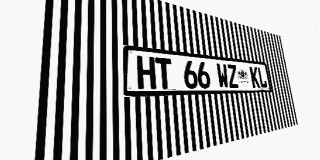6: (182, 60, 198, 89), (196, 61, 211, 88)
H: (136, 55, 156, 89)
K: (249, 66, 260, 88)
L: (257, 67, 267, 88)
T: (155, 57, 173, 89)
W: (216, 63, 229, 88)
Z: (226, 64, 239, 88)
